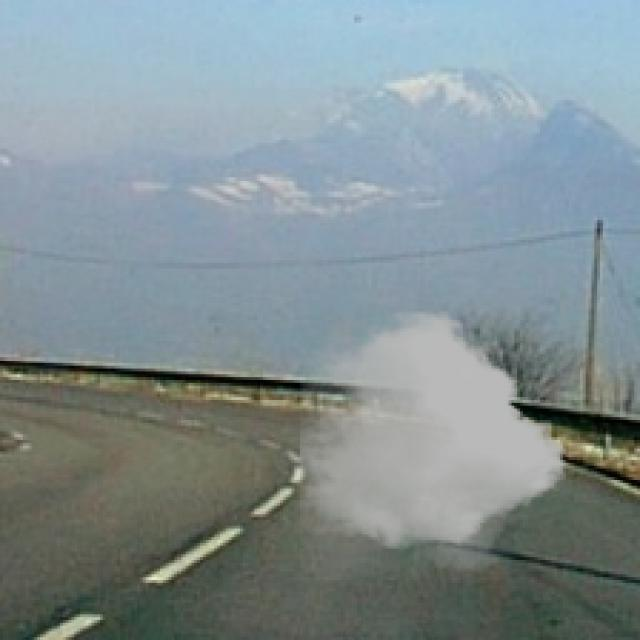Smoke: (300, 306, 566, 580)
